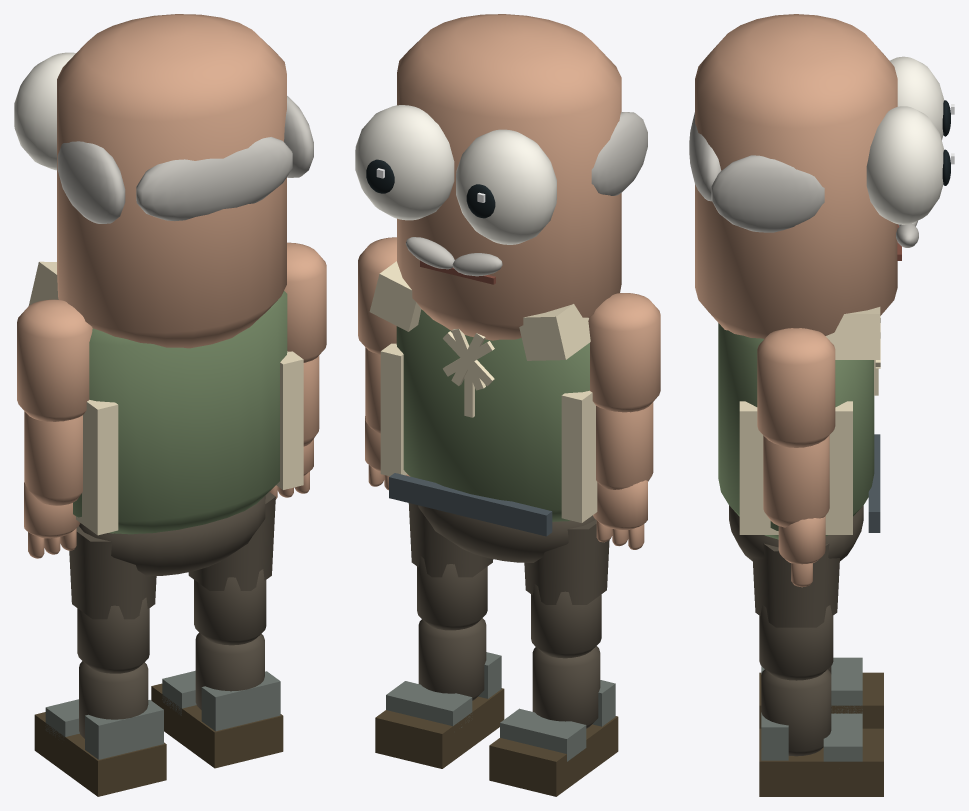
The model's file is spectator_5.glb.
3 views of the same model, side by side, from view 1: azimuth 30°, elevation 25°; view 2: azimuth 150°, elevation 25°; view 3: azimuth 270°, elevation 25° (orthographic). The views are drawn at different scales.
Visible parts, largest first — view 1: Head, RallySpectator, LeftShin, RightShin, LeftLeg, LeftArm, LeftForearm, RightLeg, RightArm, RightForearm; view 2: Head, RallySpectator, LeftShin, RightShin, LeftLeg, LeftArm, LeftForearm, RightLeg, RightArm, RightForearm; view 3: Head, RallySpectator, RightShin, RightLeg, RightArm, RightForearm, LeftShin.
Part boxes in pixels (x1=…): Head: x1=14, y1=14, x2=313, y2=348; RallySpectator: x1=28, y1=261, x2=303, y2=576; LeftShin: x1=34, y1=661, x2=166, y2=796; RightShin: x1=151, y1=632, x2=283, y2=768; LeftLeg: x1=69, y1=526, x2=156, y2=673; LeftArm: x1=17, y1=299, x2=92, y2=421; LeftForearm: x1=24, y1=411, x2=82, y2=558; RightLeg: x1=188, y1=492, x2=275, y2=645; RightArm: x1=284, y1=242, x2=326, y2=362; RightForearm: x1=269, y1=355, x2=319, y2=499; Head: x1=355, y1=14, x2=647, y2=340; RallySpectator: x1=369, y1=261, x2=597, y2=562; LeftShin: x1=489, y1=646, x2=618, y2=796; RightShin: x1=375, y1=618, x2=504, y2=768; LeftLeg: x1=524, y1=519, x2=609, y2=658; LeftArm: x1=588, y1=293, x2=660, y2=412; LeftForearm: x1=593, y1=402, x2=653, y2=549; RightLeg: x1=408, y1=503, x2=493, y2=630; RightArm: x1=358, y1=237, x2=396, y2=354; RightForearm: x1=365, y1=347, x2=409, y2=490; Head: x1=689, y1=14, x2=954, y2=338; RallySpectator: x1=718, y1=307, x2=880, y2=561; RightShin: x1=759, y1=669, x2=883, y2=796; RightLeg: x1=752, y1=543, x2=839, y2=680; RightArm: x1=757, y1=328, x2=835, y2=447; RightForearm: x1=763, y1=435, x2=829, y2=587; LeftShin: x1=759, y1=657, x2=883, y2=728.
Bounding box in the file's own units: 0.87 × 2.03 × 0.6796.
